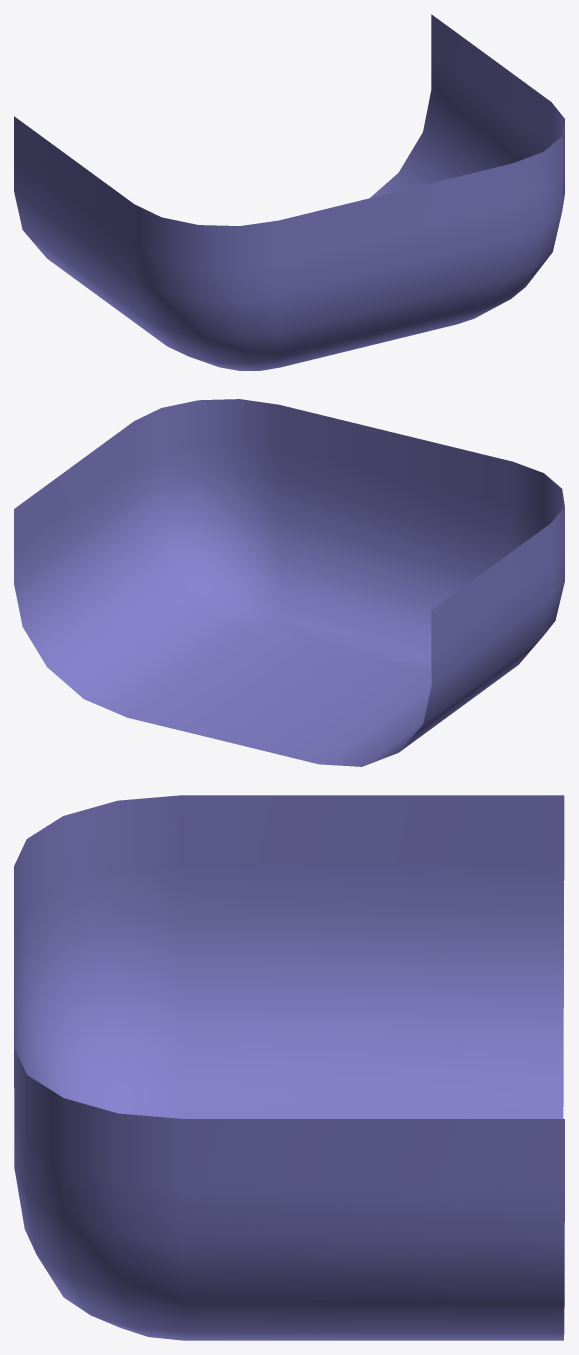
File: wall_endCap.glb
The picture shows the model from 3 angles, top to bottom: view 1: azimuth 30°, elevation 25°; view 2: azimuth 150°, elevation 25°; view 3: azimuth 270°, elevation 25°; orthographic projection. The views are drawn at different scales.
Visible parts, largest first — view 1: Wall_cap.001; view 2: Wall_cap.001; view 3: Wall_cap.001.
Boxes of the visible parts, x1,y1,x2,y2 form: Wall_cap.001: (14,14,564,370); Wall_cap.001: (14,399,564,766); Wall_cap.001: (14,795,564,1340).
Bounding box in the file's own units: 0.2781 × 0.1156 × 0.2.
1 material, 1 textured.
